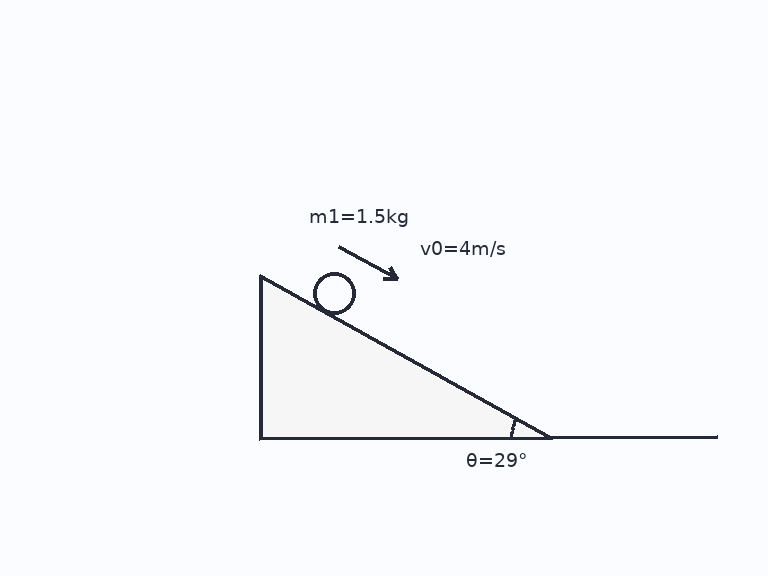ball: (311, 270, 357, 316)
ramp: (258, 274, 553, 439)
